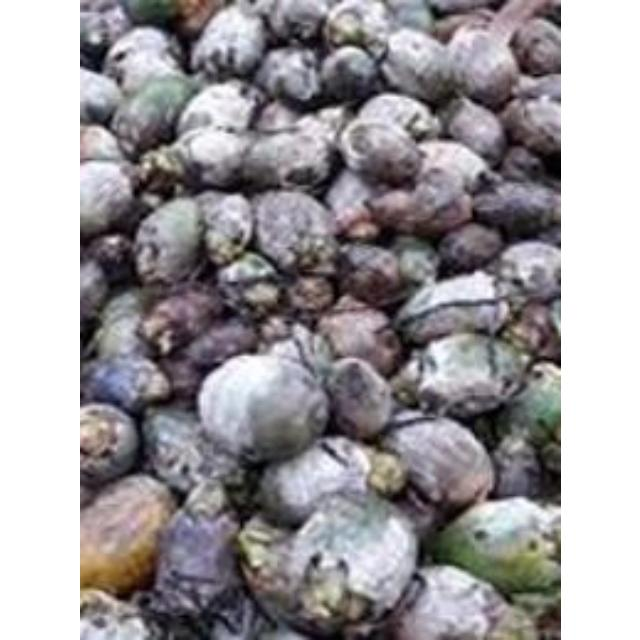damaged: (196, 351, 326, 464), (147, 498, 249, 626), (79, 471, 173, 597), (401, 332, 524, 420), (256, 437, 372, 527), (381, 566, 507, 640), (239, 512, 319, 624), (250, 188, 334, 274), (130, 195, 202, 288), (315, 304, 401, 380), (246, 123, 334, 193), (439, 25, 516, 105), (140, 287, 226, 357), (378, 30, 458, 104), (339, 118, 421, 186), (172, 125, 254, 191), (80, 403, 144, 487), (190, 6, 264, 78), (470, 178, 558, 238), (102, 26, 182, 88), (79, 160, 139, 240), (88, 292, 152, 366), (80, 358, 158, 418), (334, 242, 406, 306), (413, 138, 489, 198), (438, 96, 504, 164), (178, 80, 258, 136), (197, 192, 256, 264), (493, 240, 559, 304), (253, 44, 320, 104), (263, 326, 335, 378), (352, 92, 433, 138), (316, 44, 378, 104), (502, 301, 560, 365), (486, 434, 544, 498), (322, 0, 393, 52), (434, 221, 502, 275), (474, 0, 550, 48), (324, 170, 380, 232), (82, 232, 138, 288), (408, 192, 472, 240), (364, 187, 428, 235), (388, 488, 444, 542), (378, 414, 434, 466), (264, 1, 328, 44), (80, 5, 126, 64), (79, 64, 121, 126), (156, 349, 208, 399), (134, 145, 186, 195), (176, 475, 230, 521), (220, 458, 262, 514), (168, 1, 224, 40), (432, 10, 490, 46), (339, 604, 396, 640), (79, 255, 109, 323), (79, 123, 123, 165), (498, 144, 544, 182), (120, 0, 180, 28), (516, 72, 560, 110), (383, 0, 431, 32), (534, 502, 560, 560), (313, 104, 349, 138), (428, 1, 498, 18), (255, 313, 291, 345)
